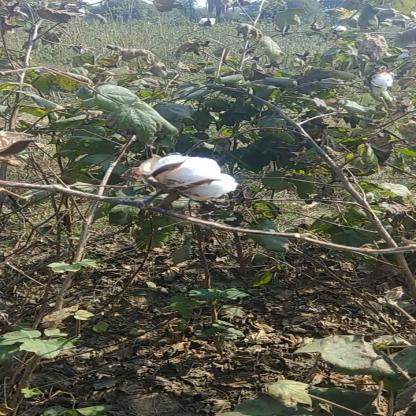cotton_ready: (122, 149, 250, 220)
